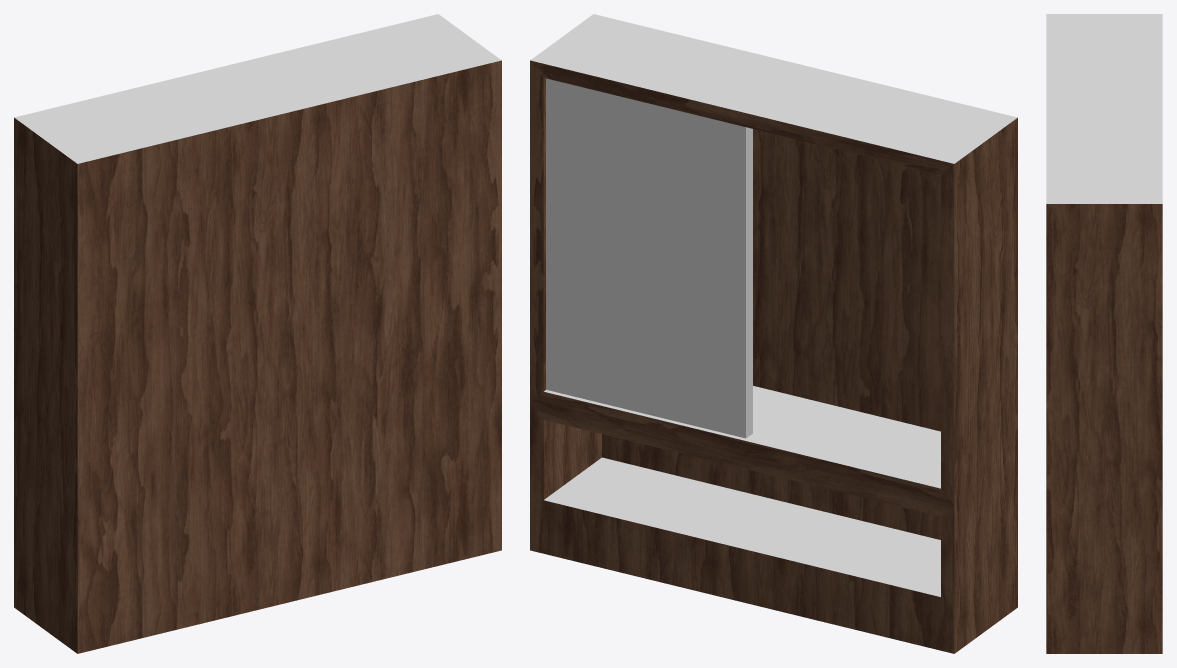
File: shelf_2.fbx
The picture shows the model from 3 angles, left to right: view 1: azimuth 30°, elevation 25°; view 2: azimuth 150°, elevation 25°; view 3: azimuth 270°, elevation 25°; orthographic projection. The views are drawn at different scales.
Parts seen in each view (by area): view 1: Closet_1; view 2: Closet_1, Closet_1_Door; view 3: Closet_1.
Boxes of the visible parts, box(x1,y1,x2,y2) form: Closet_1: box(14, 14, 501, 653); Closet_1: box(530, 14, 1017, 653); Closet_1_Door: box(546, 78, 752, 438); Closet_1: box(1046, 14, 1162, 653).
Size of the model in its own units: 200 by 221 by 51.82.
